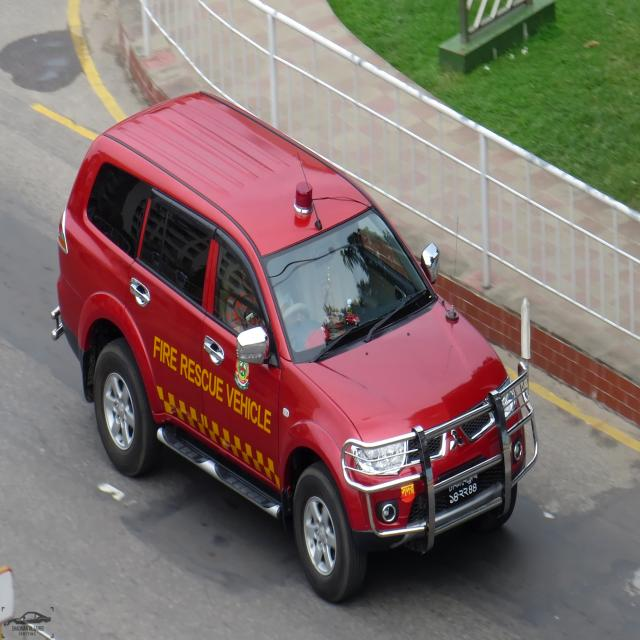red: (32, 96, 534, 582)
